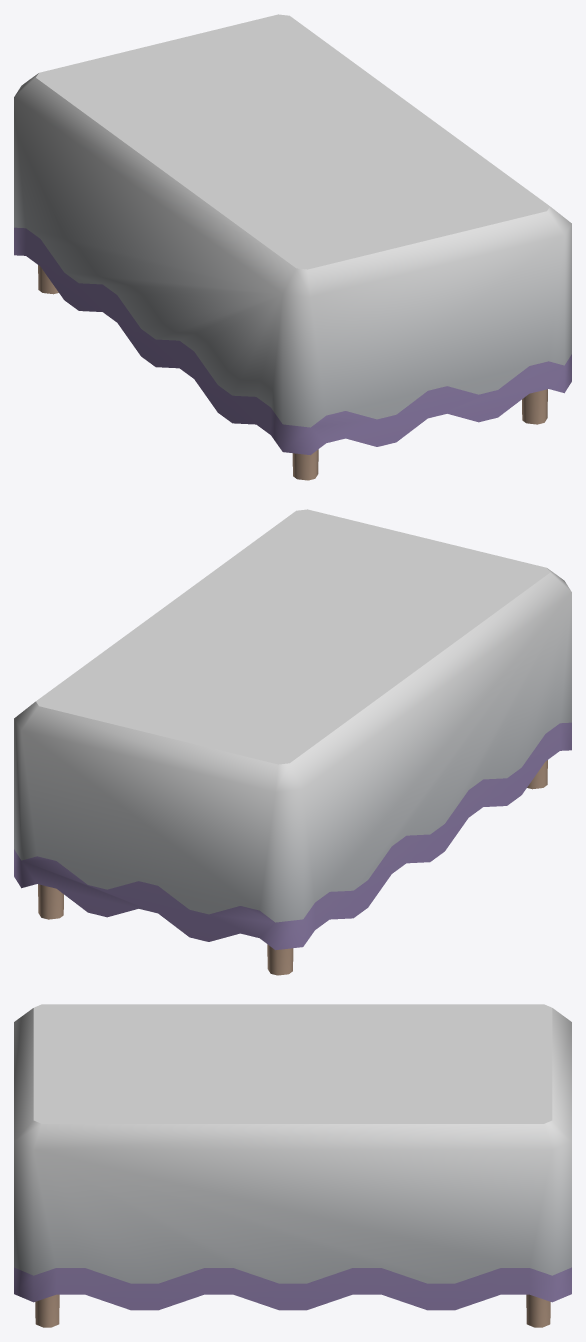
The model's file is table-classic-wood-rectangle-cloth-long.glb.
3 views of the same model, one above another, from view 1: azimuth 30°, elevation 25°; view 2: azimuth 150°, elevation 25°; view 3: azimuth 270°, elevation 25° (orthographic). The views are drawn at different scales.
Parts seen in each view (by area): view 1: table-classic-wood-rectangle-cloth-long; view 2: table-classic-wood-rectangle-cloth-long; view 3: table-classic-wood-rectangle-cloth-long.
Boxes of the visible parts, bbox=[...] form: table-classic-wood-rectangle-cloth-long: bbox=[14, 14, 571, 480]; table-classic-wood-rectangle-cloth-long: bbox=[14, 509, 571, 975]; table-classic-wood-rectangle-cloth-long: bbox=[14, 1004, 571, 1327].
Size of the model in its own units: 0.82 by 0.5746 by 1.42.
